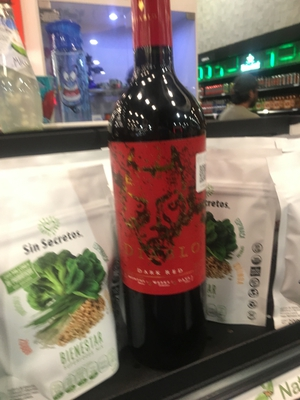diablo dark red: (100, 1, 222, 355)
